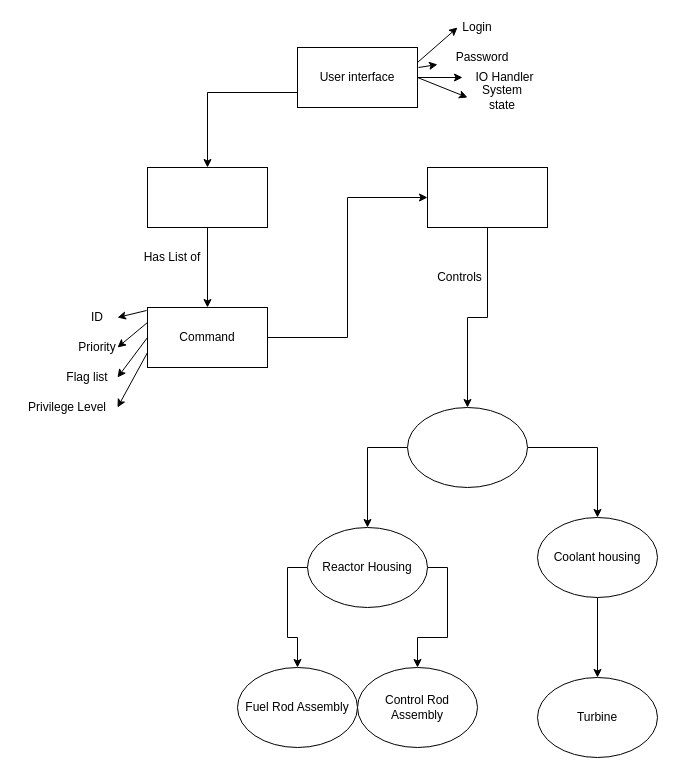
This 675x775 diagram has some shape labels left out. The shapes that lost their labels are listed below. From the top down, each one's centre as x and y in pixels, then its label:
the point at 207,197: Command List
the point at 487,197: Agent
the point at 467,447: Reactor
